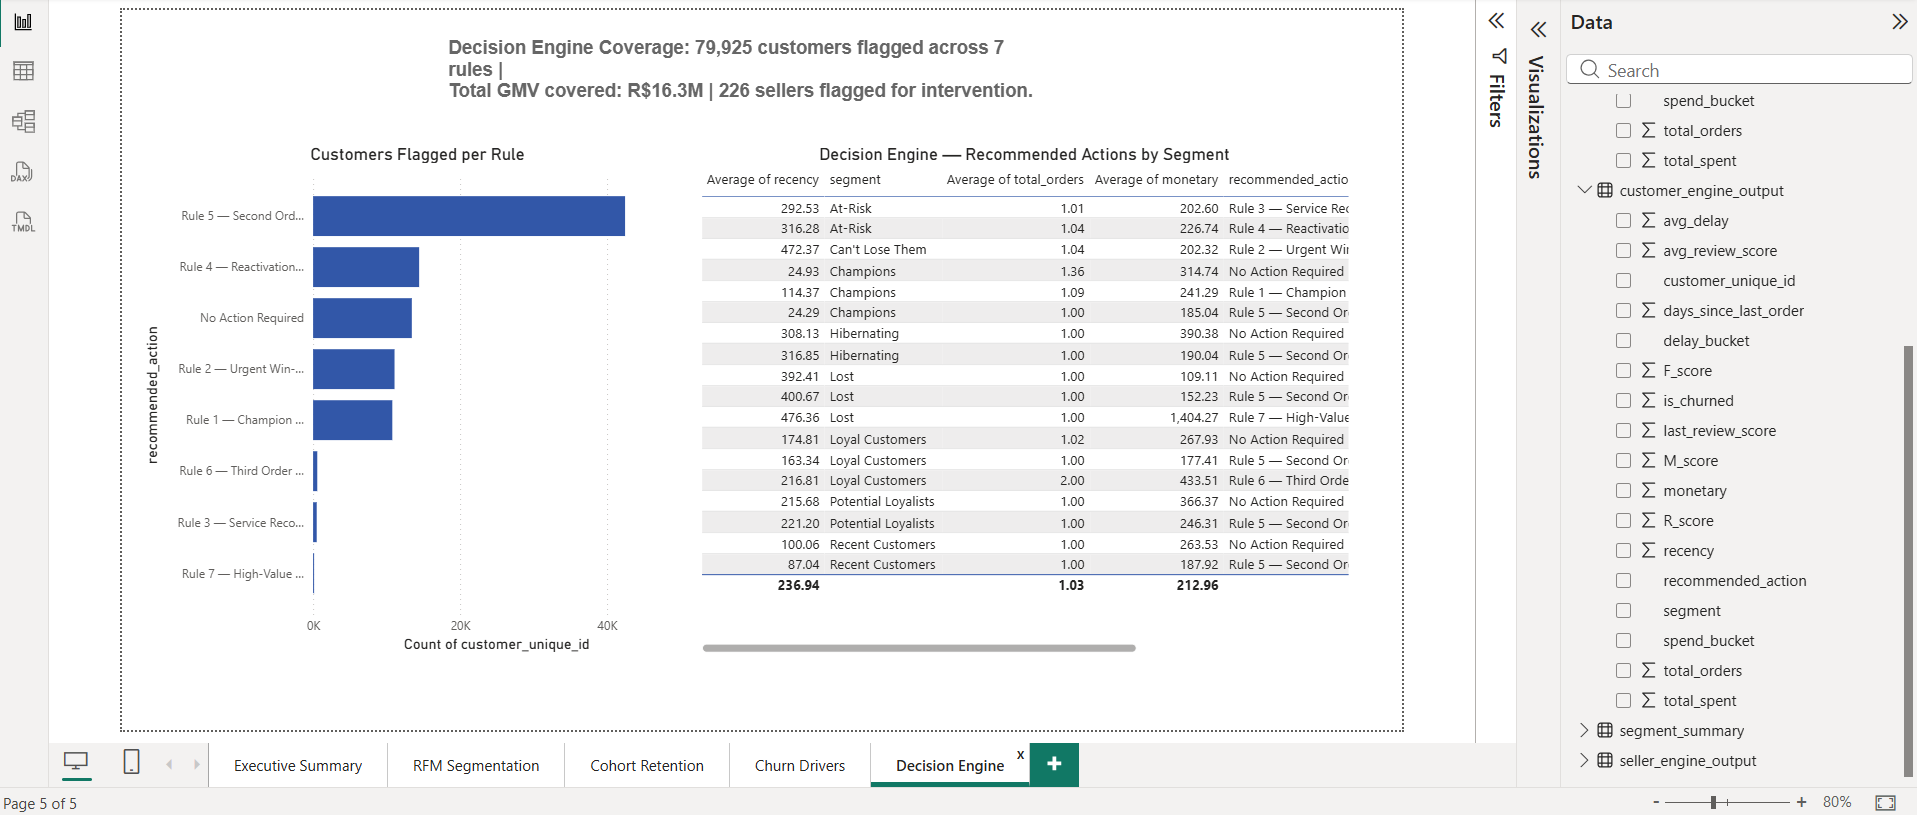

The page's visual inventory and layout, read from the dashboard file:
{"tool":"powerbi","page":{"name":"Decision Engine","canvas":[1280,720],"ordinal":4},"visuals":[{"type":"textbox","box":[321.2,22.5,610,75],"z":0},{"type":"clusteredBarChart","title":"Customers Flagged per Rule","fields":{"Category":["customer_engine_output.recommended_action"],"Y":["CountNonNull(customer_engine_output.customer_unique_id)"]},"box":[17.5,133.8,556.2,513.8],"z":1},{"type":"tableEx","title":"Decision Engine — Recommended Actions by Segment","fields":{"Values":["Avg(customer_engine_output.recency)","customer_engine_output.segment","Avg(customer_engine_output.total_orders)","Avg(customer_engine_output.monetary)","customer_engine_output.recommended_action"]},"box":[573.8,133.8,657.5,513.8],"z":2}]}

Visuals, with their boxes on the page's 1280x720 design canvas (x1, y1, x2, y2). These are canvas units, not pixel positions in the 1917x815 screenshot, which may show the page scaled, cropped or inside an application window:
textbox: left=321, top=22, right=931, bottom=98
"Customers Flagged per Rule" clusteredBarChart: left=18, top=134, right=574, bottom=648
"Decision Engine — Recommended Actions by Segment" tableEx: left=574, top=134, right=1231, bottom=648
